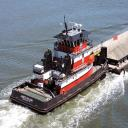tugboat: (10, 15, 111, 118)
